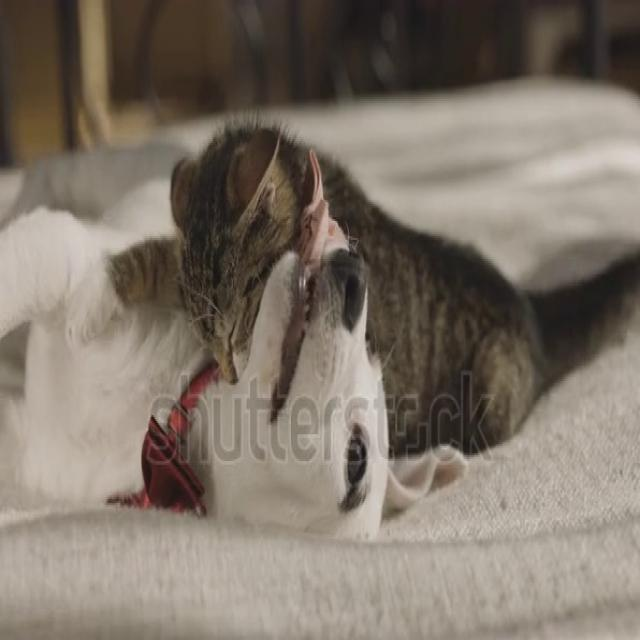normal_animals: (0, 106, 639, 544)
